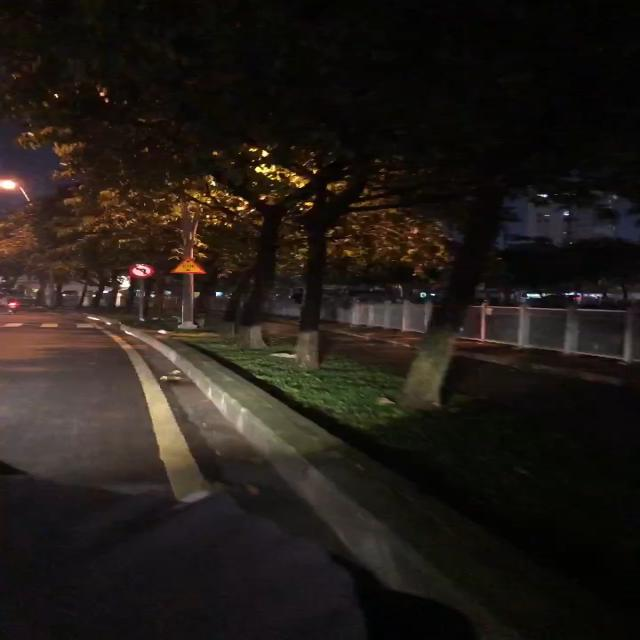Bien bao cam re trai: (120, 261, 161, 279)
